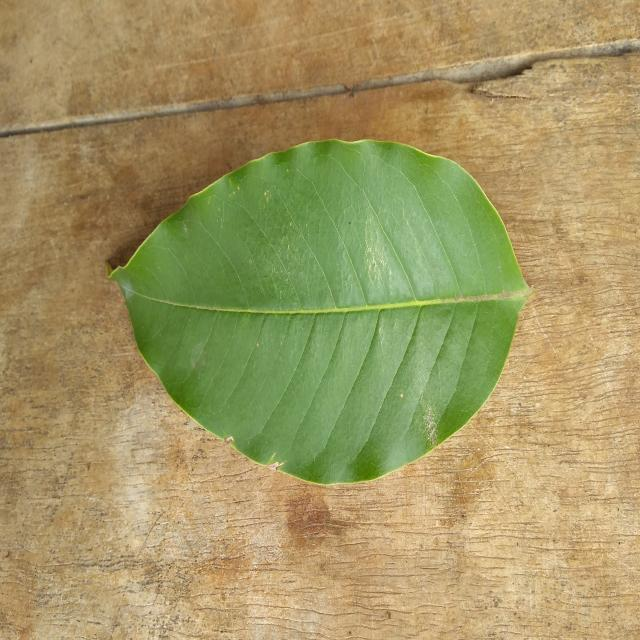sampige: (111, 140, 530, 482), (226, 142, 529, 440)
